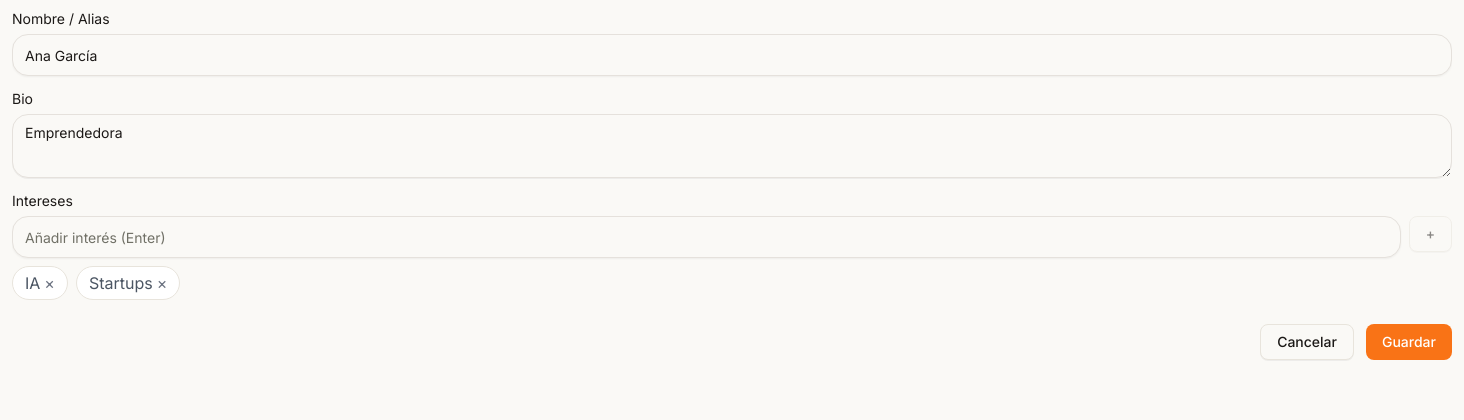
Test: ProfileForm — error en submit › muestra mensaje de error cuando updateProfile lanza una excepción
Click the button "Guardar".
click(1409, 342)  # box 1366,324 -> 1452,360
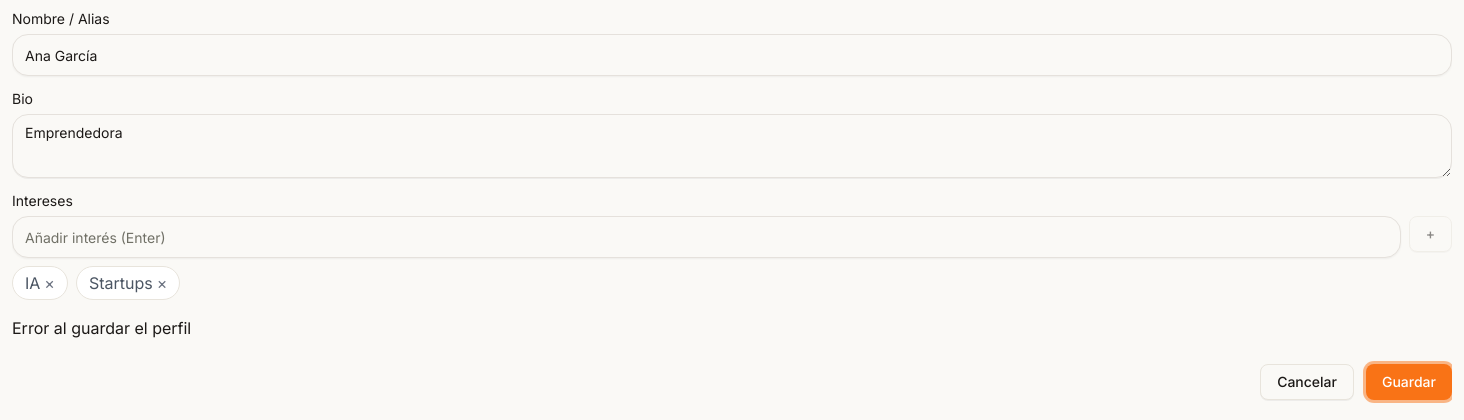
Now the message reads "Error al guardar el perfil", box 12,318 -> 191,338
